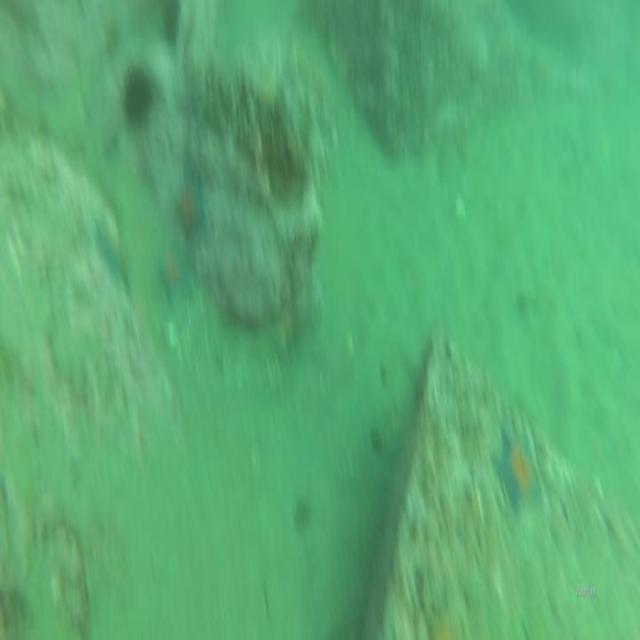echinus: (117, 61, 163, 132)
starfish: (497, 425, 542, 512), (95, 218, 132, 289), (156, 248, 194, 307), (175, 180, 207, 240)
